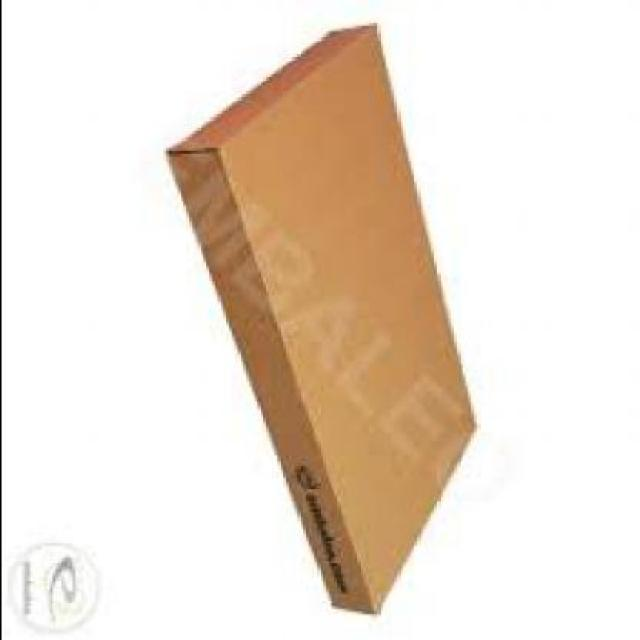CARDBOARD: (168, 23, 475, 611)
